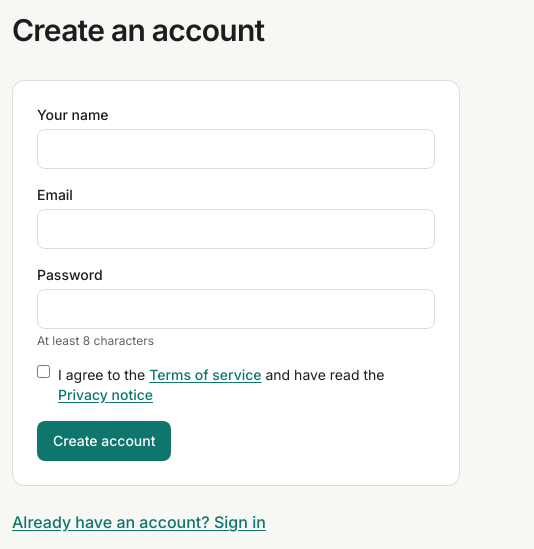
Test: Email pages (P5b) › EP-M4 sign-up that needs confirming goes to check-email
Type "Ann Lee" into the field labelled "Your name".
click(236, 149); type("Ann Lee")  # box [37, 129, 435, 169]
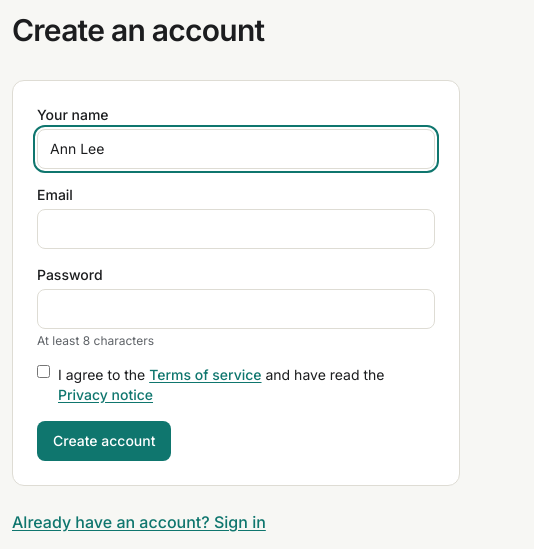
Type "ann@firm.test" into the field labelled "Email".
click(236, 229); type("ann@firm.test")  # box [37, 209, 435, 249]
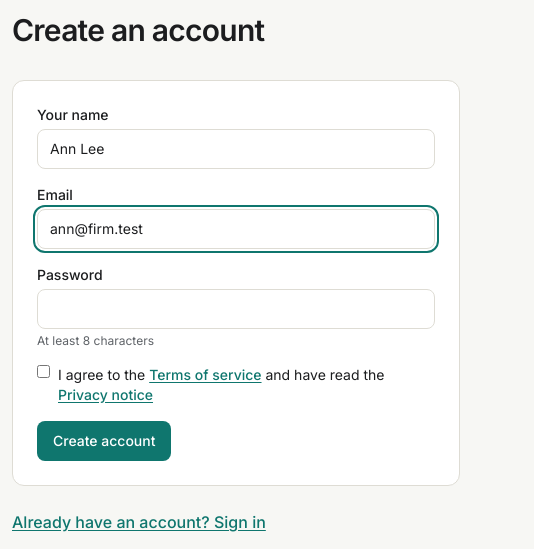
Type "password123" into the password field labelled "Password At least 8 characters".
click(236, 309); type("password123")  # box [37, 289, 435, 329]
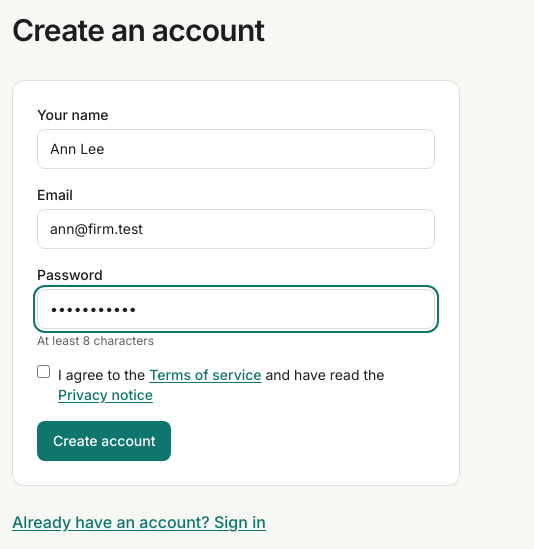
Click the checkbox.
click(44, 372)  # box [37, 365, 50, 378]
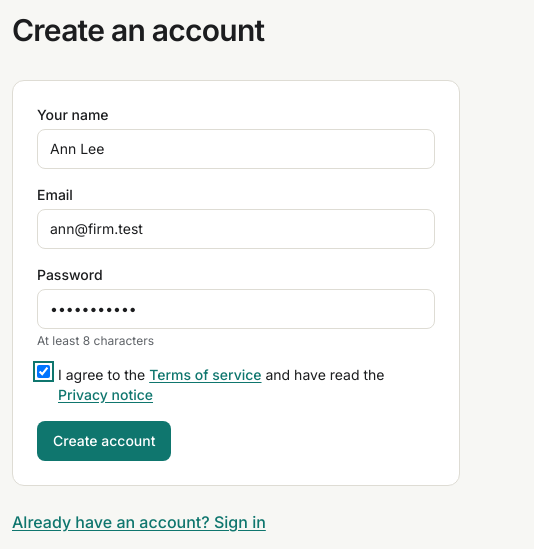
Click the button "Create account".
click(104, 441)  # box [37, 421, 172, 461]
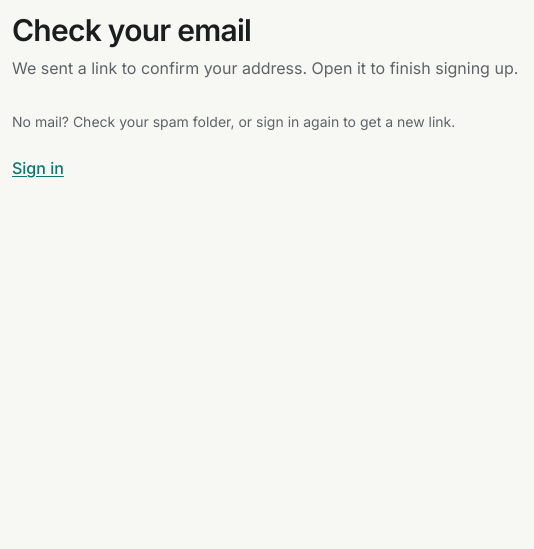
Result: the heading "Check your email" is shown at [12, 12, 251, 48]
